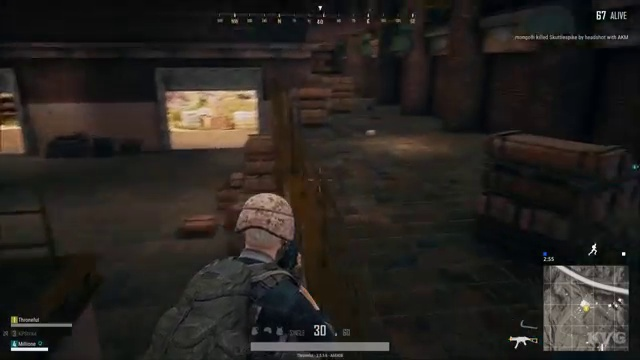Player: (158, 178, 369, 323)
